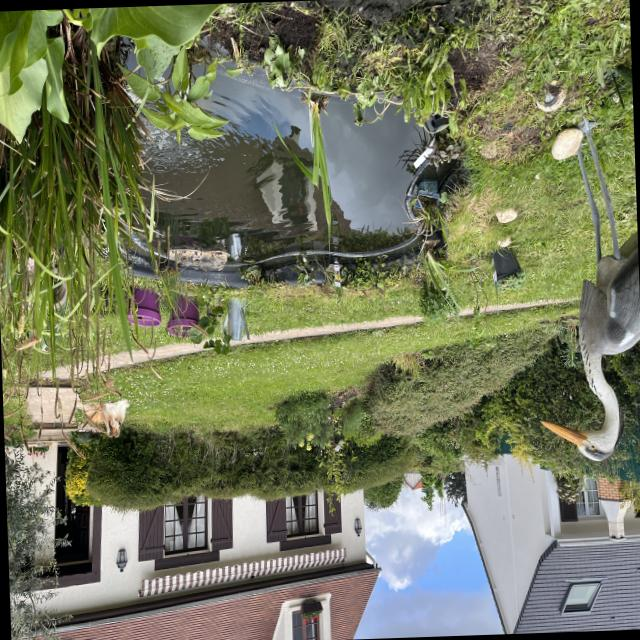Dog: (74, 382, 138, 448)
Heron: (522, 110, 640, 473)
